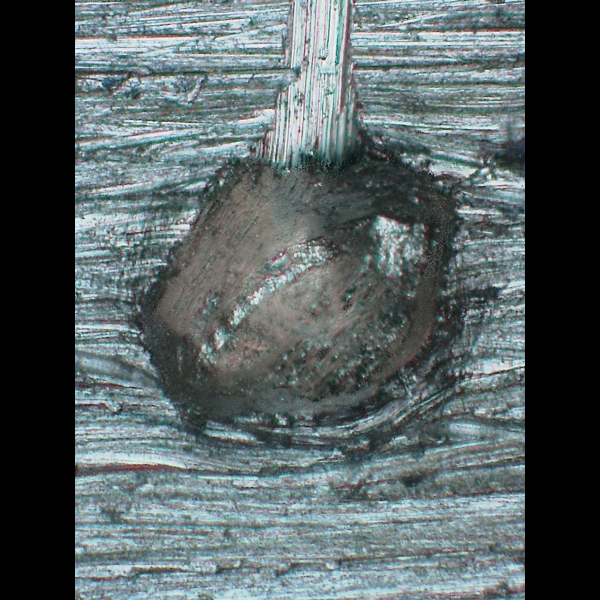d: (115, 96, 485, 464)
